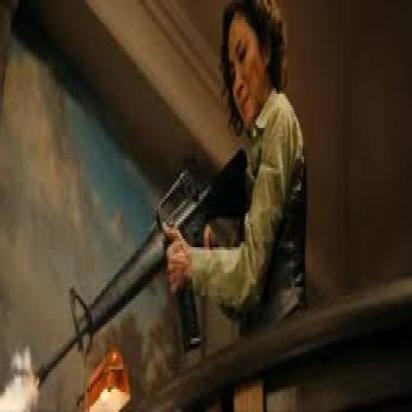Gun: (29, 136, 250, 412)
